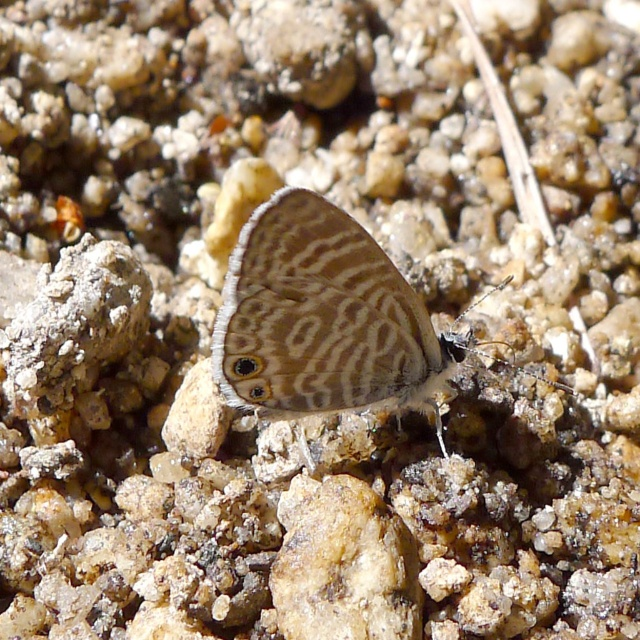Butterfly: (203, 165, 523, 452)
